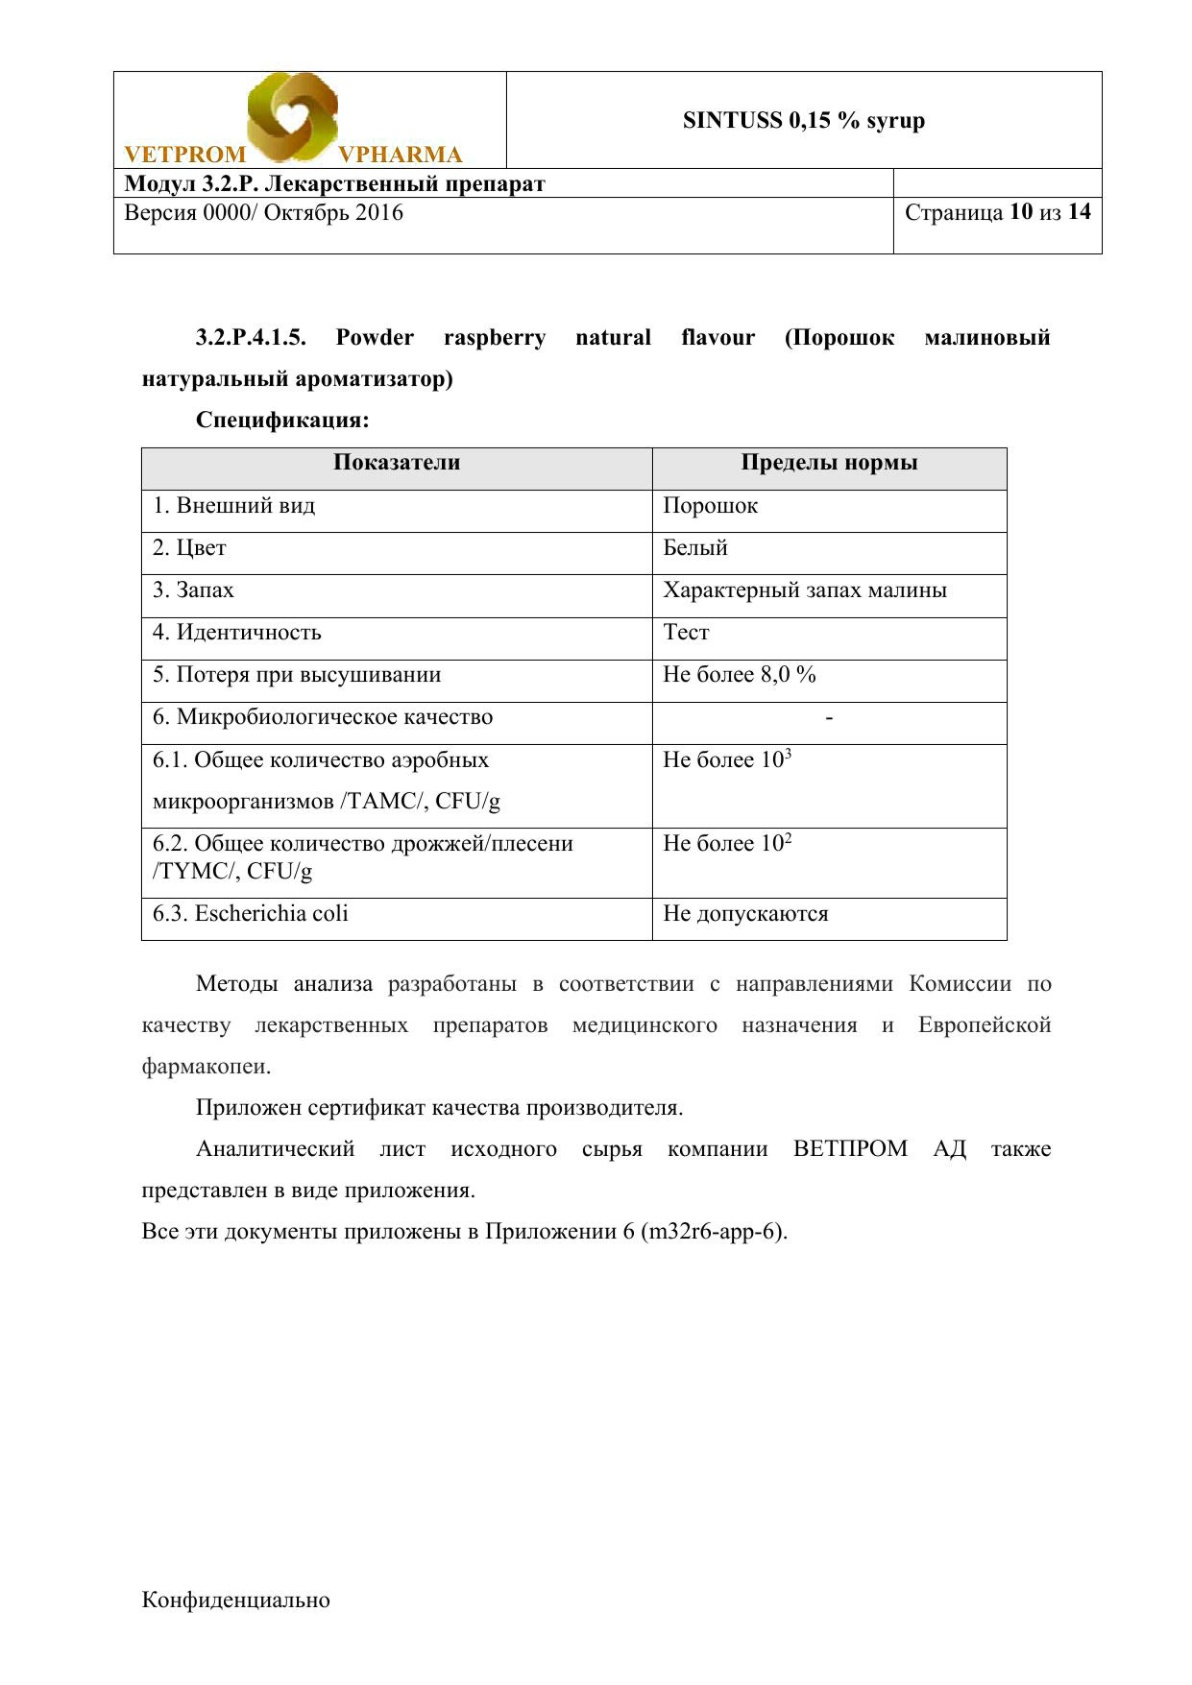full_lined: (141, 446, 1010, 943)
merged_cells: (111, 68, 1106, 255)
